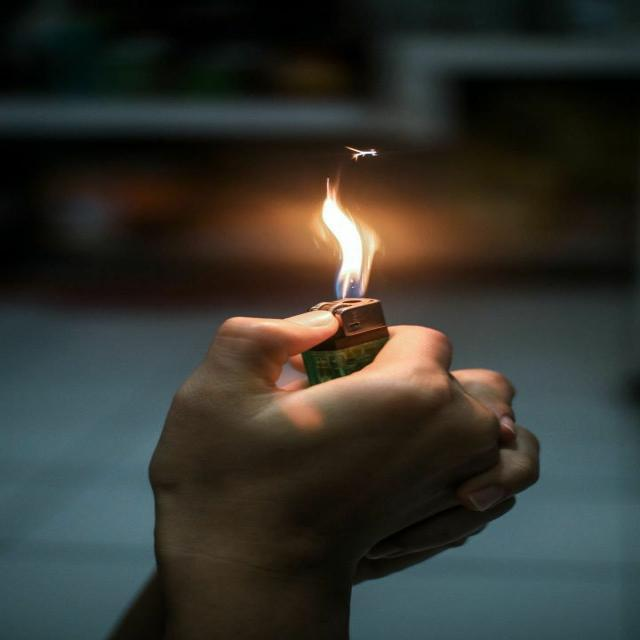Fire: (290, 124, 454, 306)
